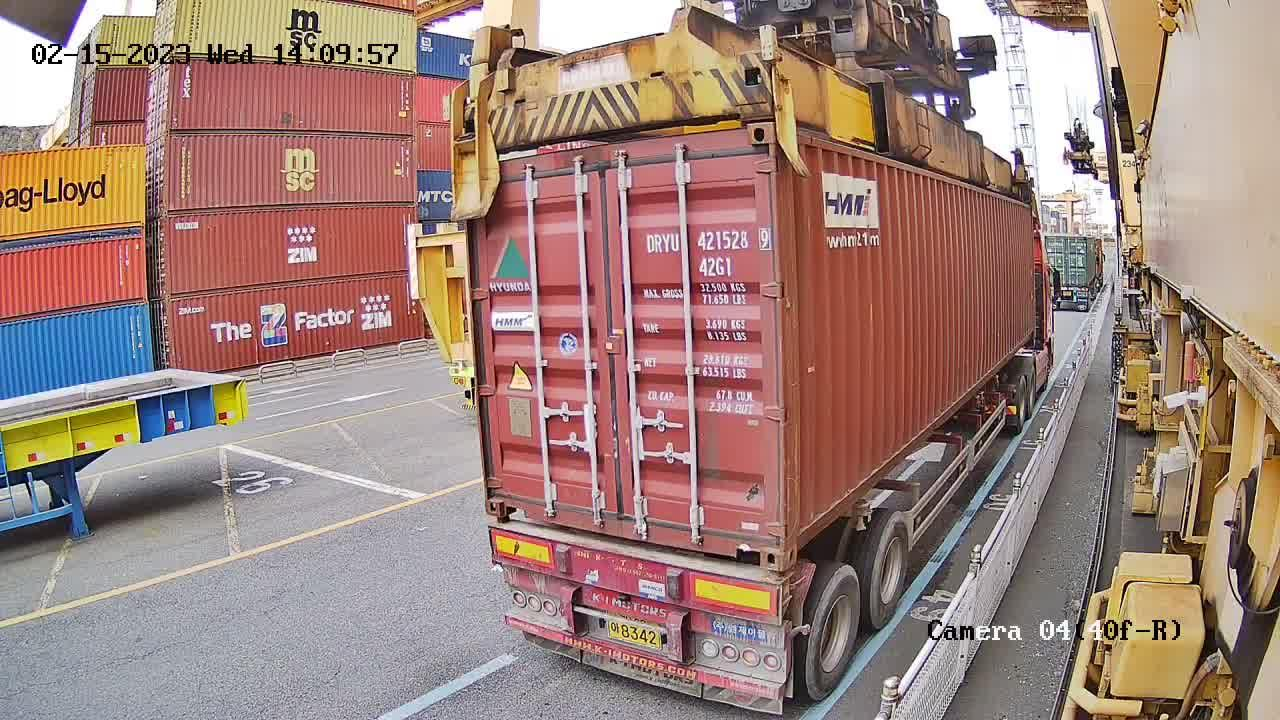Chassis: (487, 525, 780, 622)
Hole_L: (783, 501, 819, 572), (482, 476, 531, 519)
Hole_R: (726, 508, 783, 565)
Tire: (807, 569, 860, 698), (866, 511, 911, 630)
